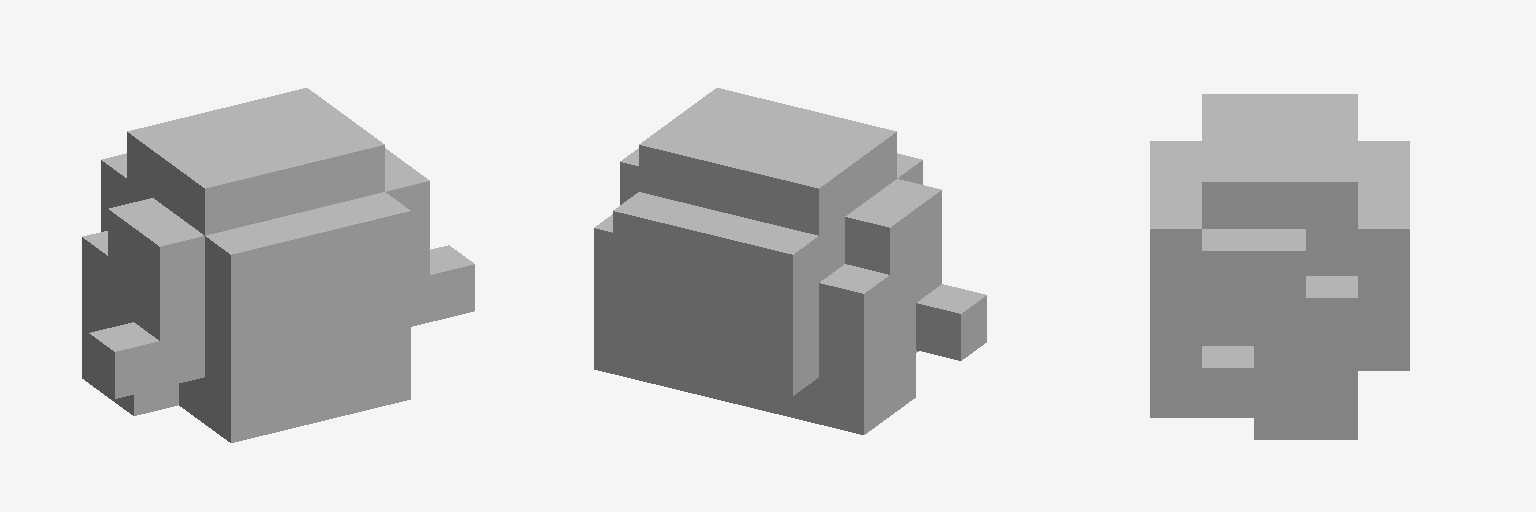
The model's file is Head 3.obj.
The picture shows the model from 3 angles: view 1: azimuth 30°, elevation 25°; view 2: azimuth 150°, elevation 25°; view 3: azimuth 270°, elevation 25°; orthographic projection.
Bounding box in the file's own units: 8 × 5 × 5.